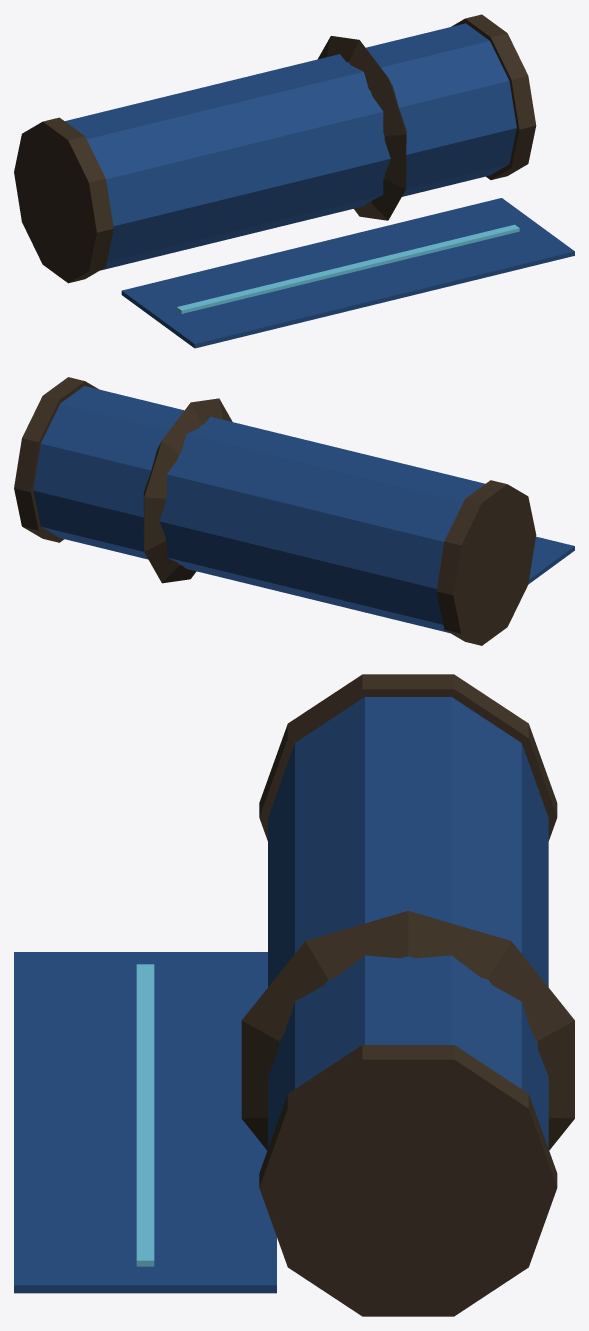
The model's file is blueprint.glb.
The picture shows the model from 3 angles, top to bottom: view 1: azimuth 30°, elevation 25°; view 2: azimuth 150°, elevation 25°; view 3: azimuth 270°, elevation 25°; orthographic projection. The views are drawn at different scales.
Visible parts, largest first — view 1: m; view 2: m; view 3: m.
Boxes of the visible parts, <box> form: m: <box>14,14,574,348</box>; m: <box>14,377,574,645</box>; m: <box>14,674,574,1316</box>.
Size of the model in its own units: 0.11 by 0.0423 by 0.0677.
